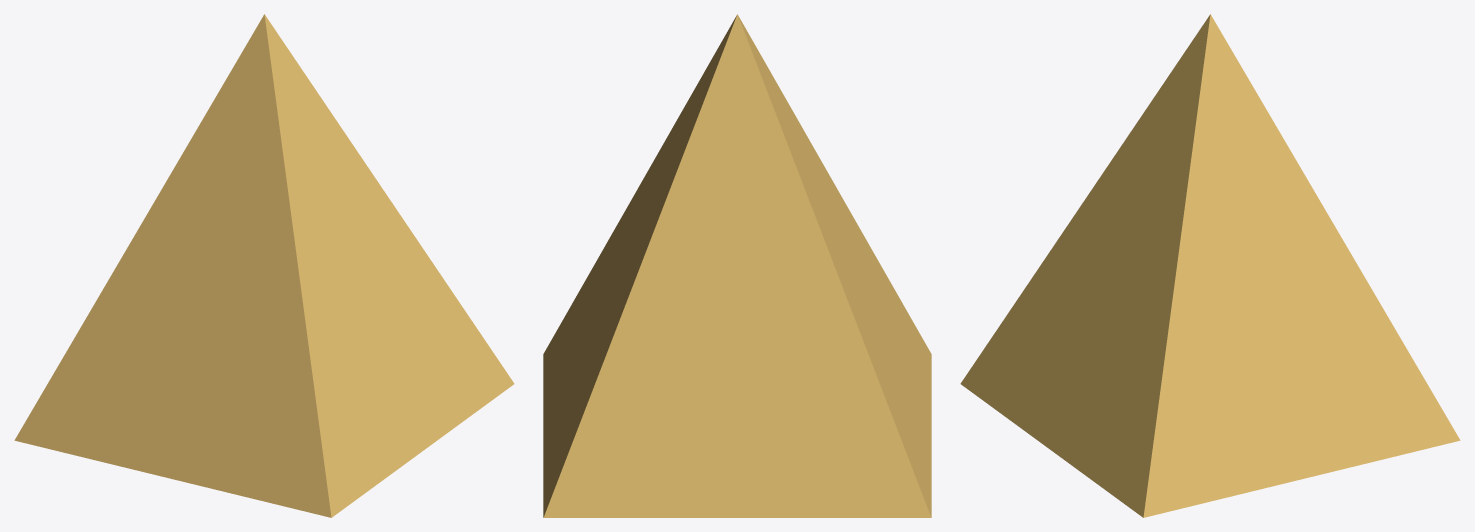
The picture shows the model from 3 angles, left to right: view 1: azimuth 30°, elevation 25°; view 2: azimuth 150°, elevation 25°; view 3: azimuth 270°, elevation 25°; orthographic projection. The views are drawn at different scales.
Parts seen in each view (by area): view 1: Pyramid; view 2: Pyramid; view 3: Pyramid.
Part boxes in pixels (<box>): Pyramid: <box>14,14,514,517</box>; Pyramid: <box>543,14,931,517</box>; Pyramid: <box>960,14,1460,517</box>.
Size of the model in its own units: 137 by 137 by 120.
